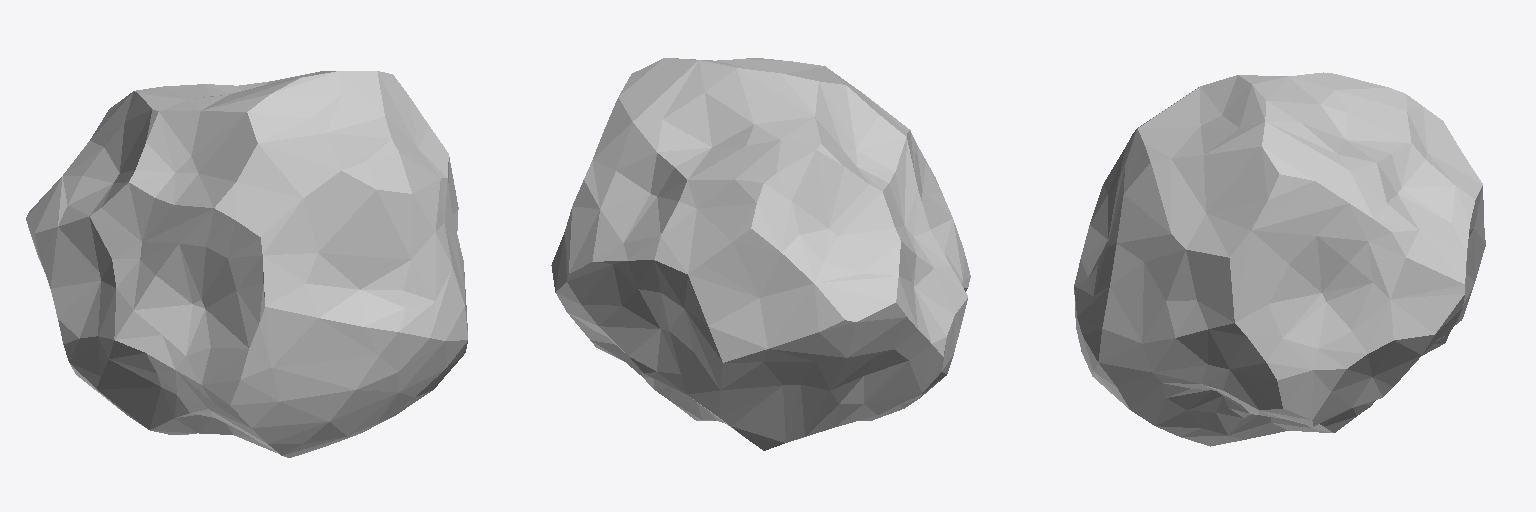
File: rock_005.obj
The picture shows the model from 3 angles: view 1: azimuth 30°, elevation 25°; view 2: azimuth 150°, elevation 25°; view 3: azimuth 270°, elevation 25°; orthographic projection.
Visible parts, largest first — view 1: rock.005; view 2: rock.005; view 3: rock.005.
Boxes of the visible parts, x1,y1,x2,y2 form: rock.005: [26, 71, 467, 457]; rock.005: [551, 58, 970, 450]; rock.005: [1074, 72, 1485, 446].
Bounding box in the file's own units: 3.49 × 3.15 × 3.38.